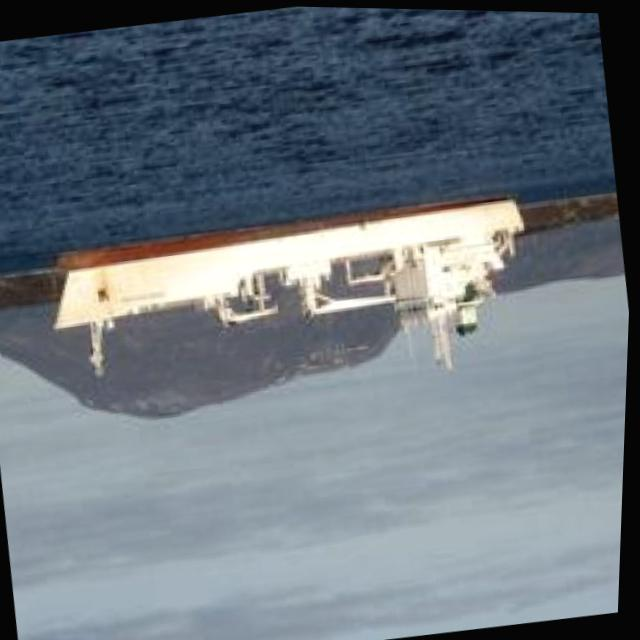ship2: (53, 191, 526, 377)
